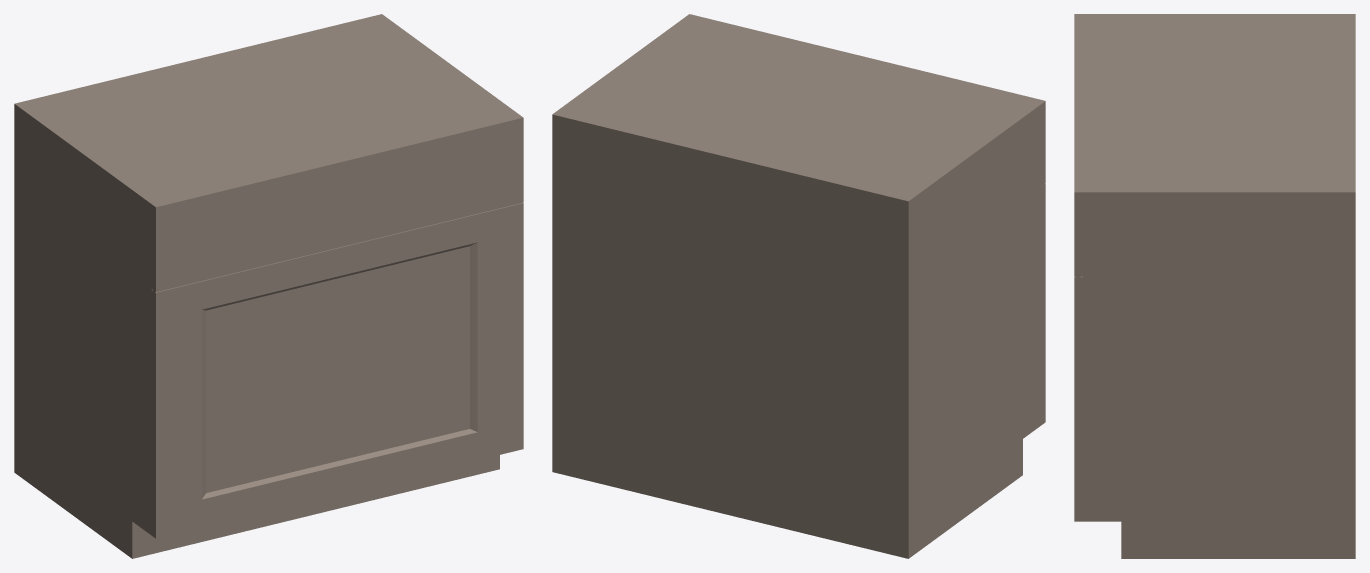
The model's file is Base-Cabinet-Single-Door_W36in_2D.glb.
3 views of the same model, side by side, from view 1: azimuth 30°, elevation 25°; view 2: azimuth 150°, elevation 25°; view 3: azimuth 270°, elevation 25° (orthographic). The views are drawn at different scales.
Visible parts, largest first — view 1: Base-Cabinet-Single-Door_W36in_2D; view 2: Base-Cabinet-Single-Door_W36in_2D; view 3: Base-Cabinet-Single-Door_W36in_2D.
Part boxes in pixels (bbox=[...]): Base-Cabinet-Single-Door_W36in_2D: bbox=[14, 14, 523, 558]; Base-Cabinet-Single-Door_W36in_2D: bbox=[552, 14, 1045, 558]; Base-Cabinet-Single-Door_W36in_2D: bbox=[1074, 14, 1355, 558].
Bounding box in the file's own units: 0.9144 × 0.8769 × 0.61.
